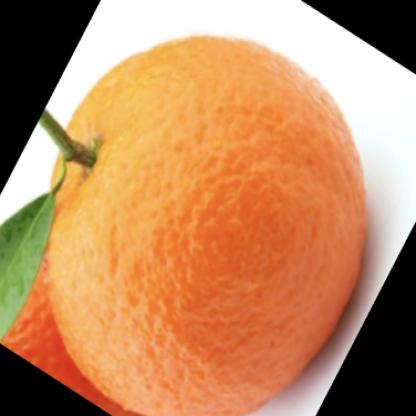fresh: (44, 35, 368, 416)
